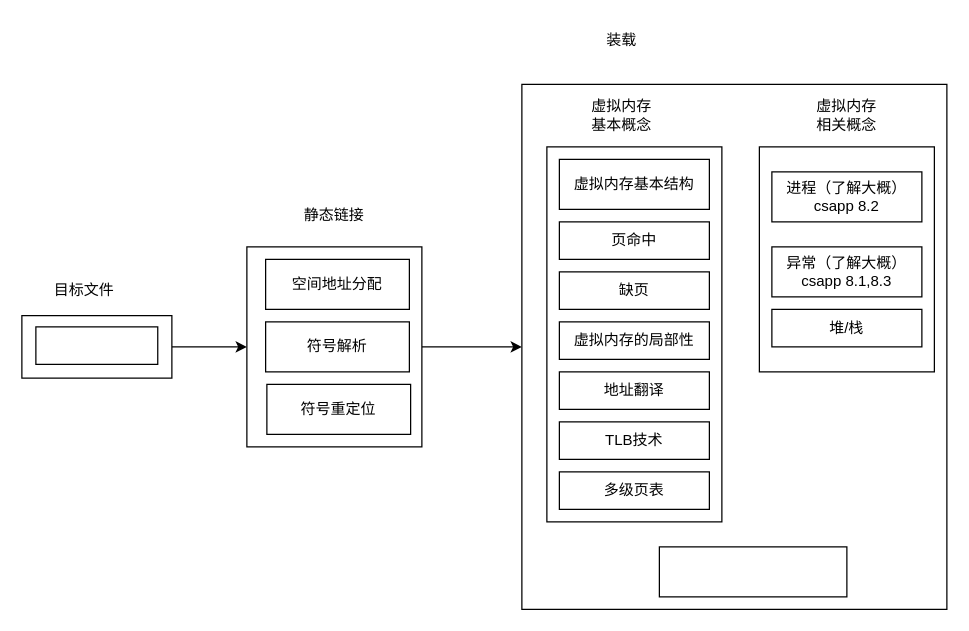
The diagram is 969 pixels wide and 631 high, and some of its shapes have lost their labels. The centre of each missing label's shape, as x and y in pixels:
ELF文件格式: the point at 96,345
如何加载可执行目标文件: the point at 752,571
